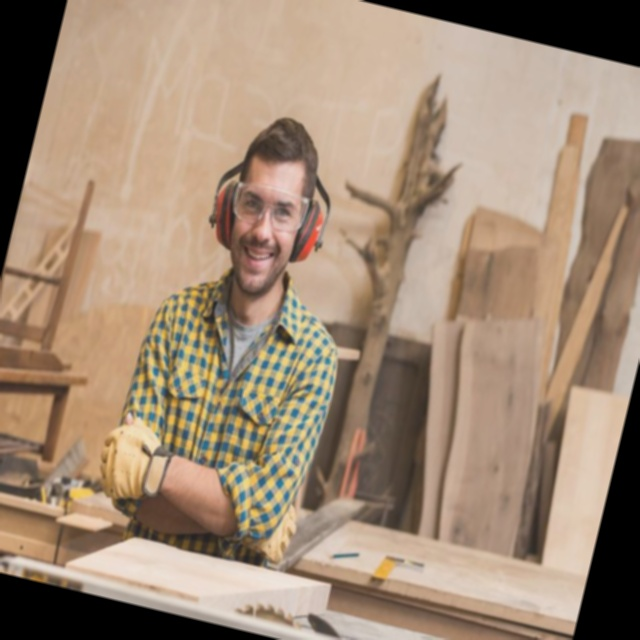goggles: (205, 202, 287, 244)
